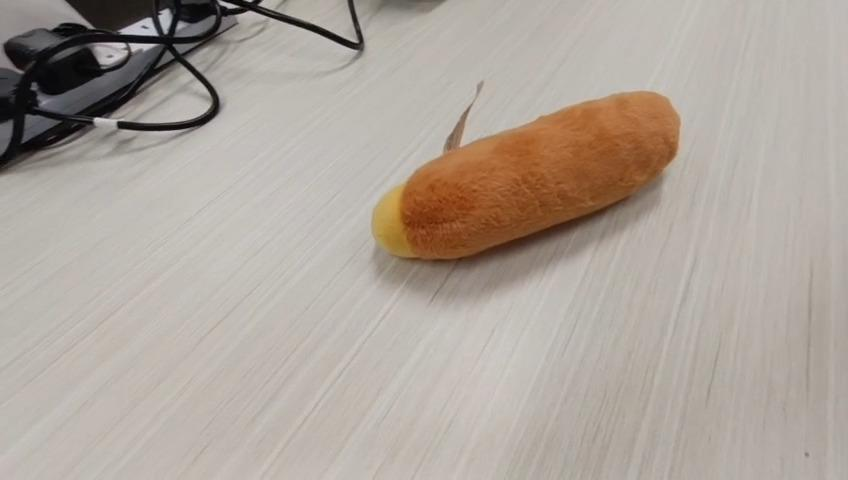hotdog: (370, 79, 680, 261)
